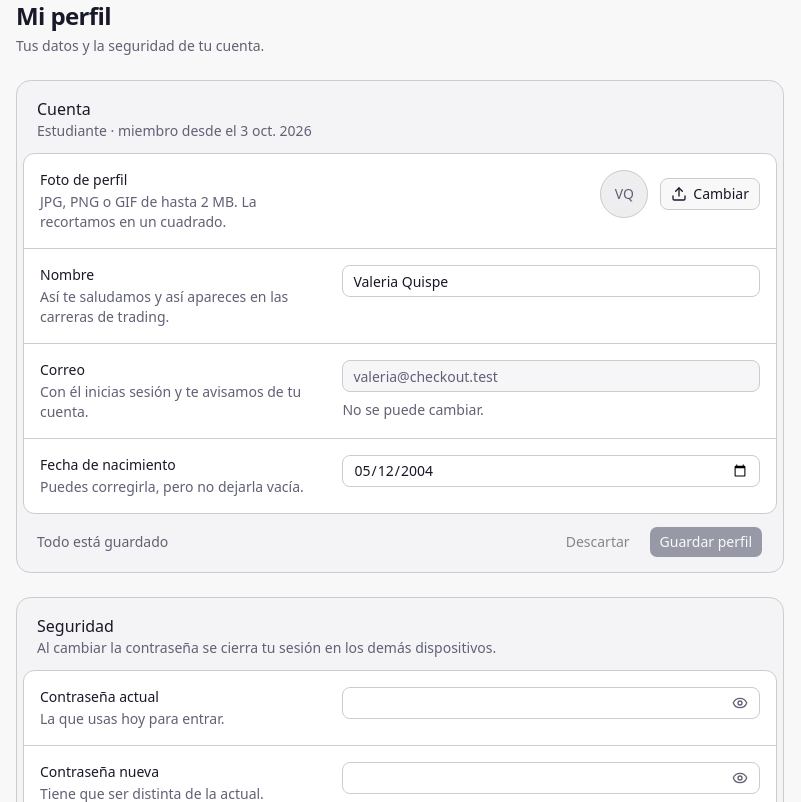
Scenario: ProfilePage › con la contrasena actual equivocada lo marca en el campo y no cierra la sesion
The width and height of the screenshot is (801, 802).
Type "NoEsEsta1!" into the password field labelled "Contraseña actual". click: [551, 703]
box: [342,687,760,719]
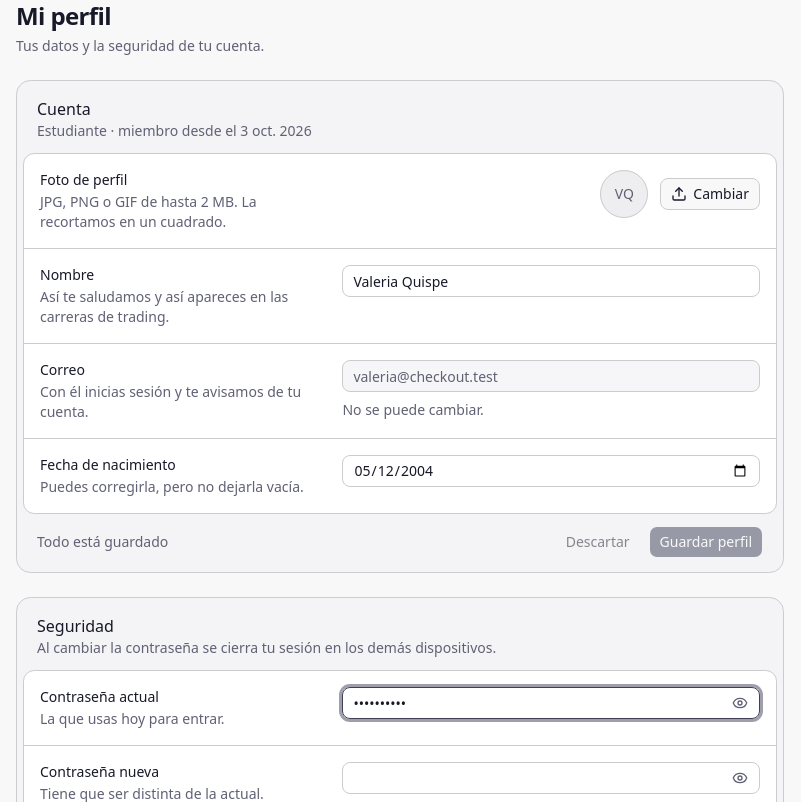
Type "Otra-Clave-2026" into the password field labelled "Contraseña nueva". click: [551, 778]
box: [342,762,760,794]
(page scrolled)
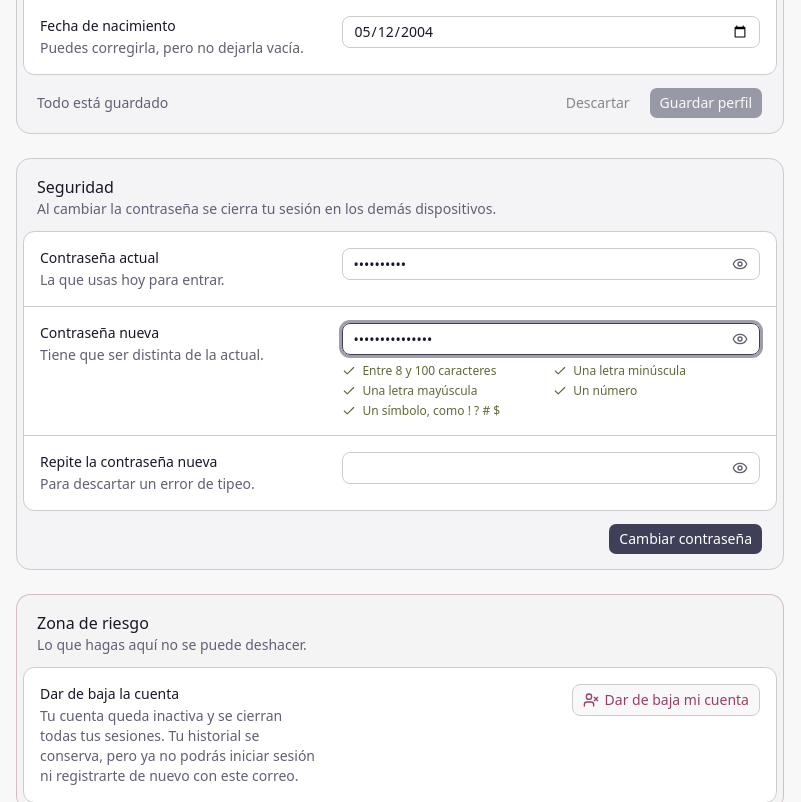
Type "Otra-Clave-2026" into the password field labelled "Repite la contraseña nueva". click: [551, 468]
box: [342,452,760,484]
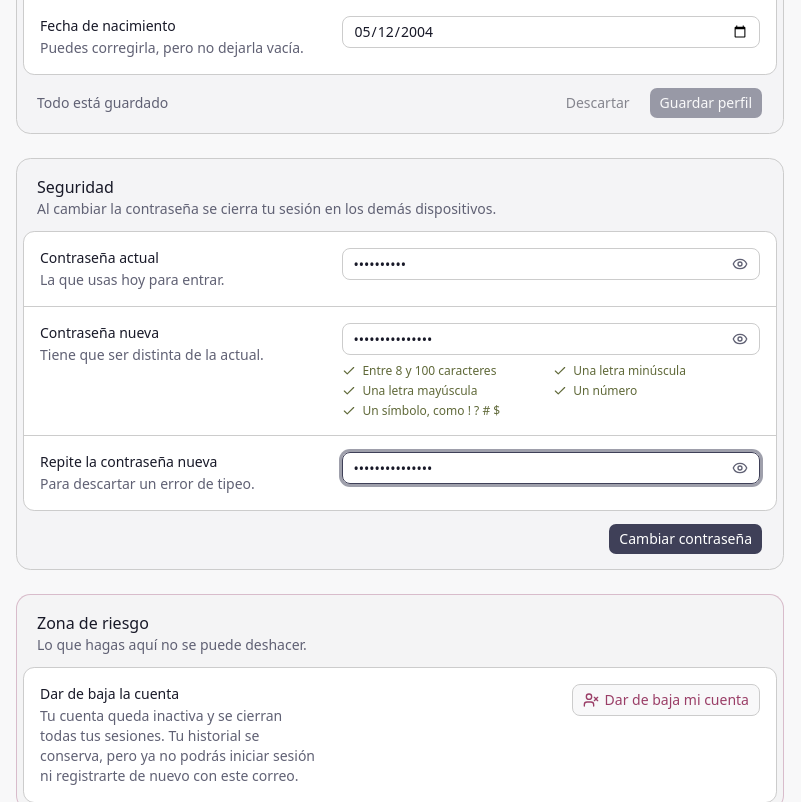
Click the button "Cambiar contraseña". click: [686, 539]
box: [608,523,763,555]
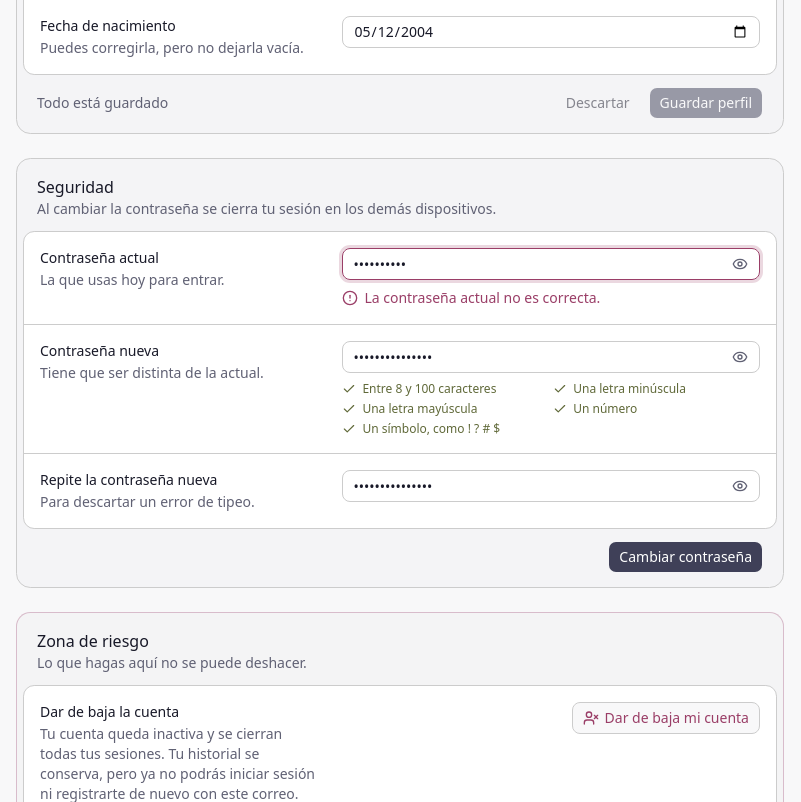
expect the text "La contraseña actual no es correcta." is shown: met, box [342,288,600,307]
